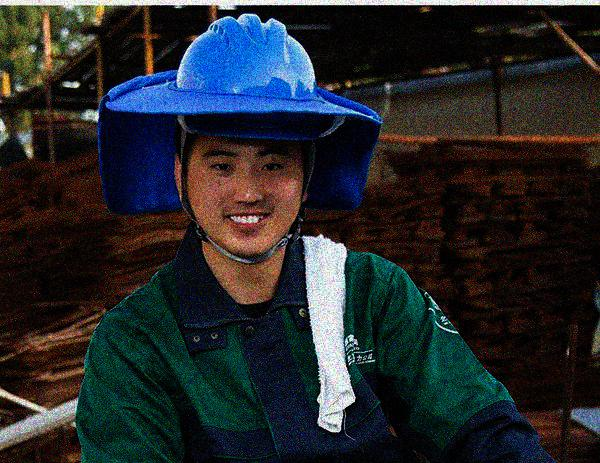helmet: (102, 12, 370, 263)
